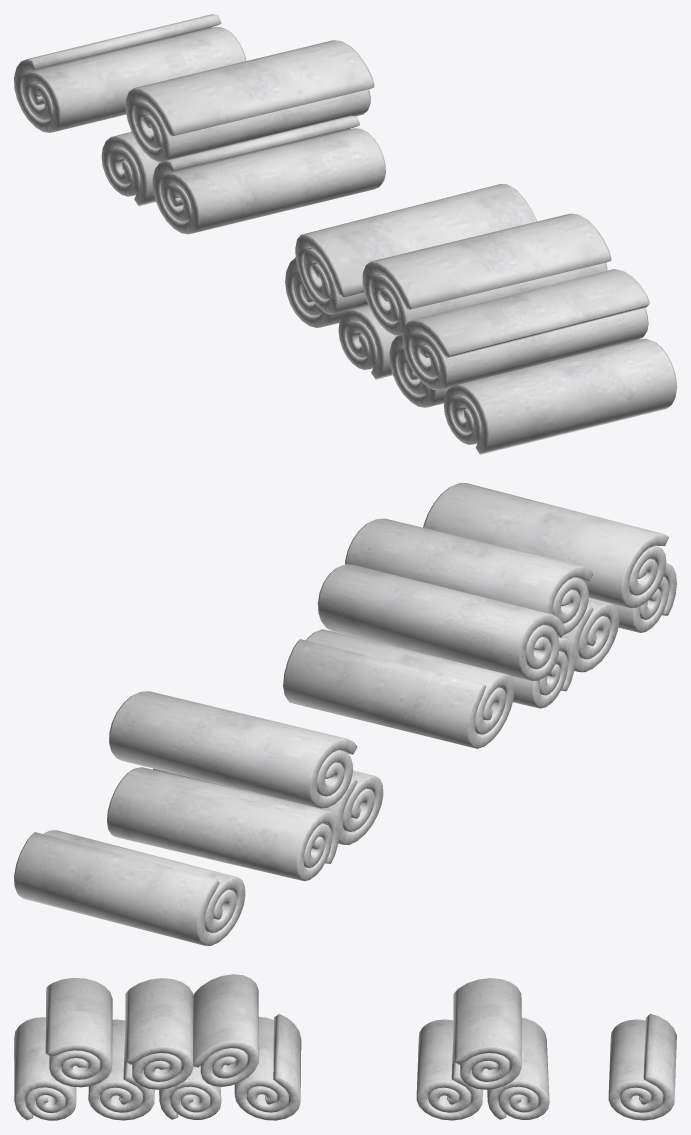
File: s_toallas.glb
The picture shows the model from 3 angles, top to bottom: view 1: azimuth 30°, elevation 25°; view 2: azimuth 150°, elevation 25°; view 3: azimuth 270°, elevation 25°; orthographic projection. The views are drawn at different scales.
Visible parts, largest first — view 1: Helix006__0; view 2: Helix006__0; view 3: Helix006__0.
Part boxes in pixels (<box>): Helix006__0: <box>14,14,676,454</box>; Helix006__0: <box>14,483,676,945</box>; Helix006__0: <box>14,974,676,1120</box>.
Size of the model in its own units: 0.1346 by 0.0676 by 0.5.
1 material, 1 textured.
